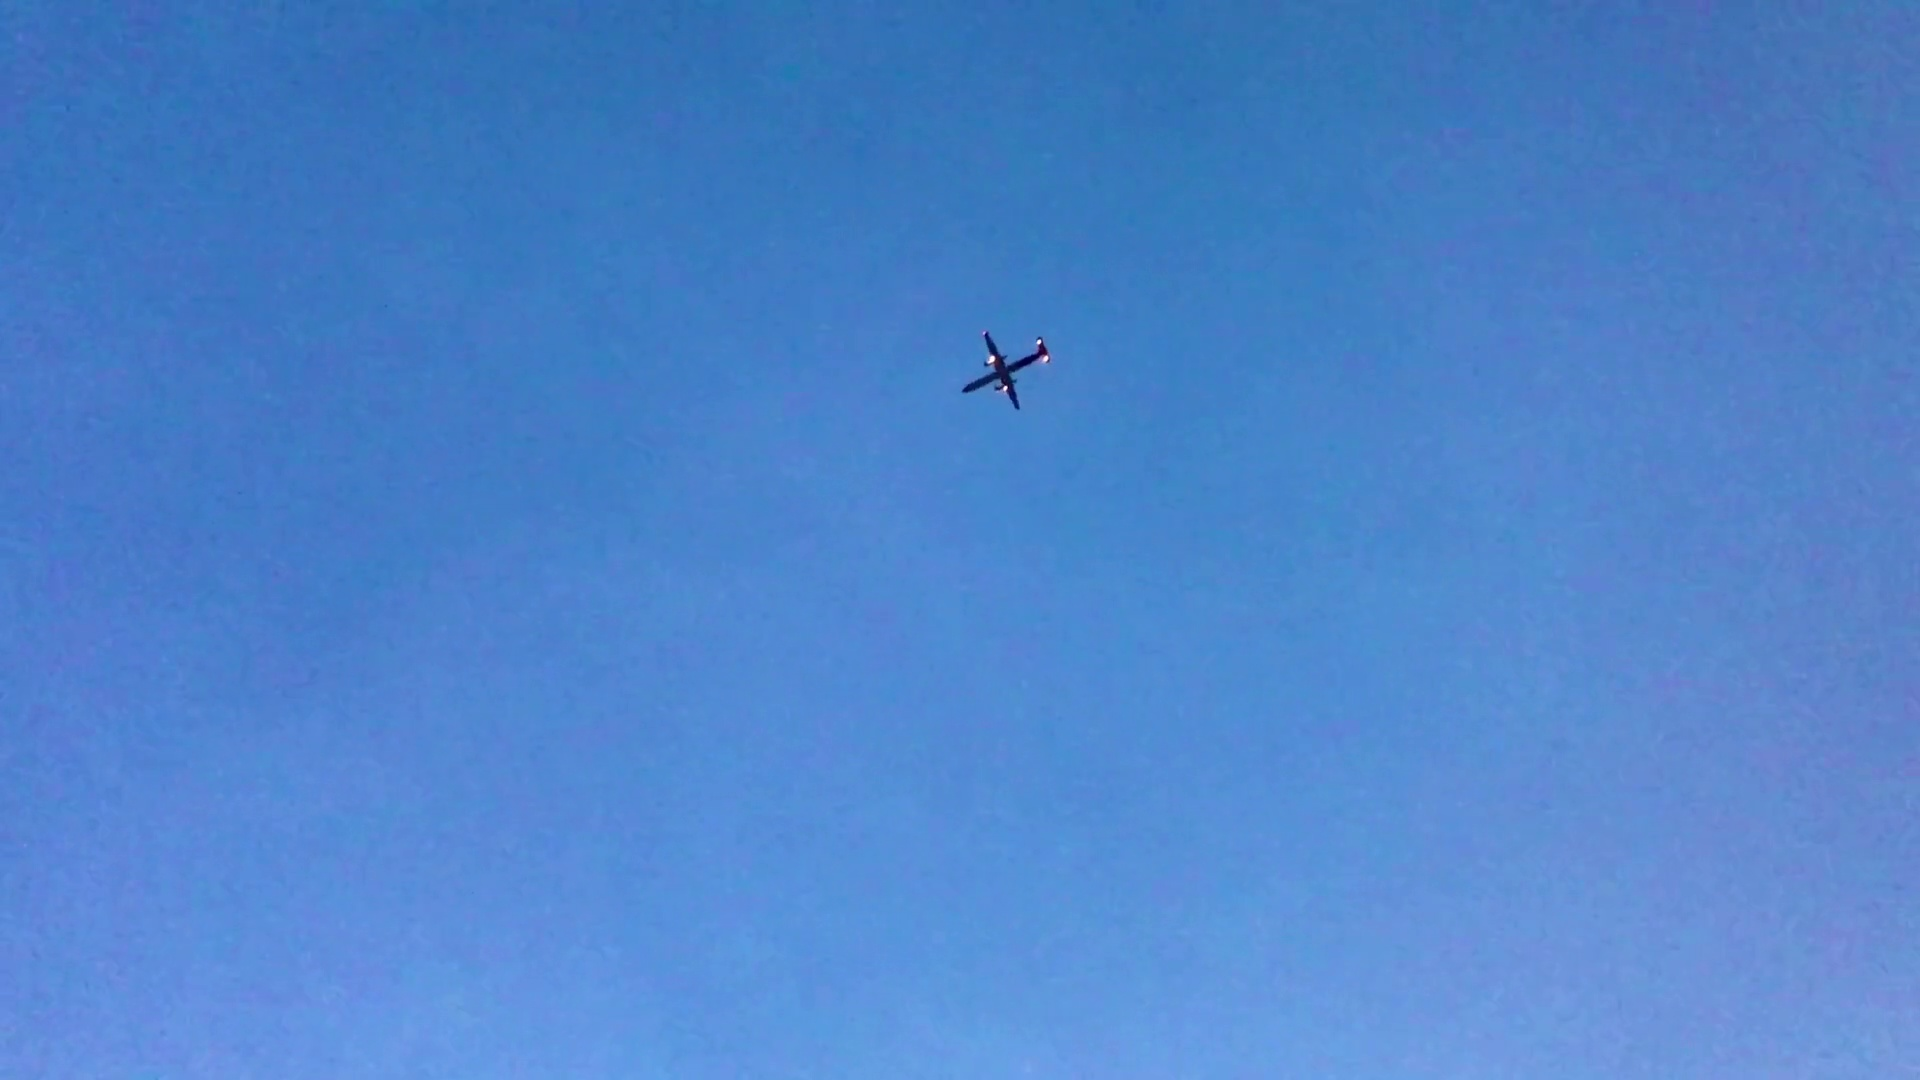plane: (961, 328, 1050, 410)
